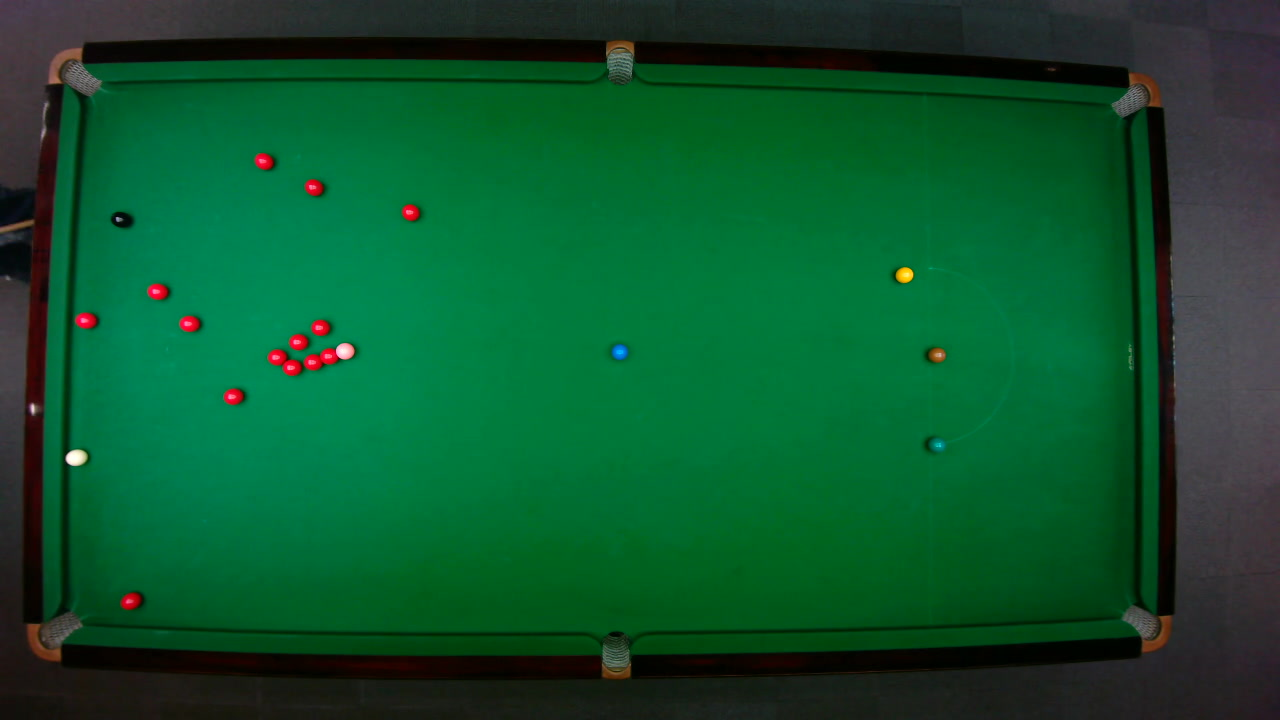bag: (25, 609, 83, 662), (45, 46, 102, 96), (1119, 603, 1171, 652), (1108, 71, 1161, 118), (600, 629, 630, 680), (605, 38, 633, 85)
black: (109, 210, 131, 228)
blue: (610, 342, 628, 360)
brown: (926, 346, 946, 362)
green: (926, 435, 946, 453)
pink: (334, 341, 355, 360)
red: (118, 590, 142, 610), (73, 310, 97, 328), (222, 386, 244, 405), (177, 314, 200, 332), (145, 282, 168, 300), (253, 151, 274, 170), (303, 177, 324, 196), (302, 352, 324, 370), (400, 202, 420, 221), (287, 332, 308, 350), (281, 358, 302, 376), (265, 348, 287, 365), (319, 346, 338, 365), (309, 318, 330, 335)
white: (63, 447, 89, 466)
yellow: (893, 265, 914, 283)
zone: (926, 266, 1013, 445)
